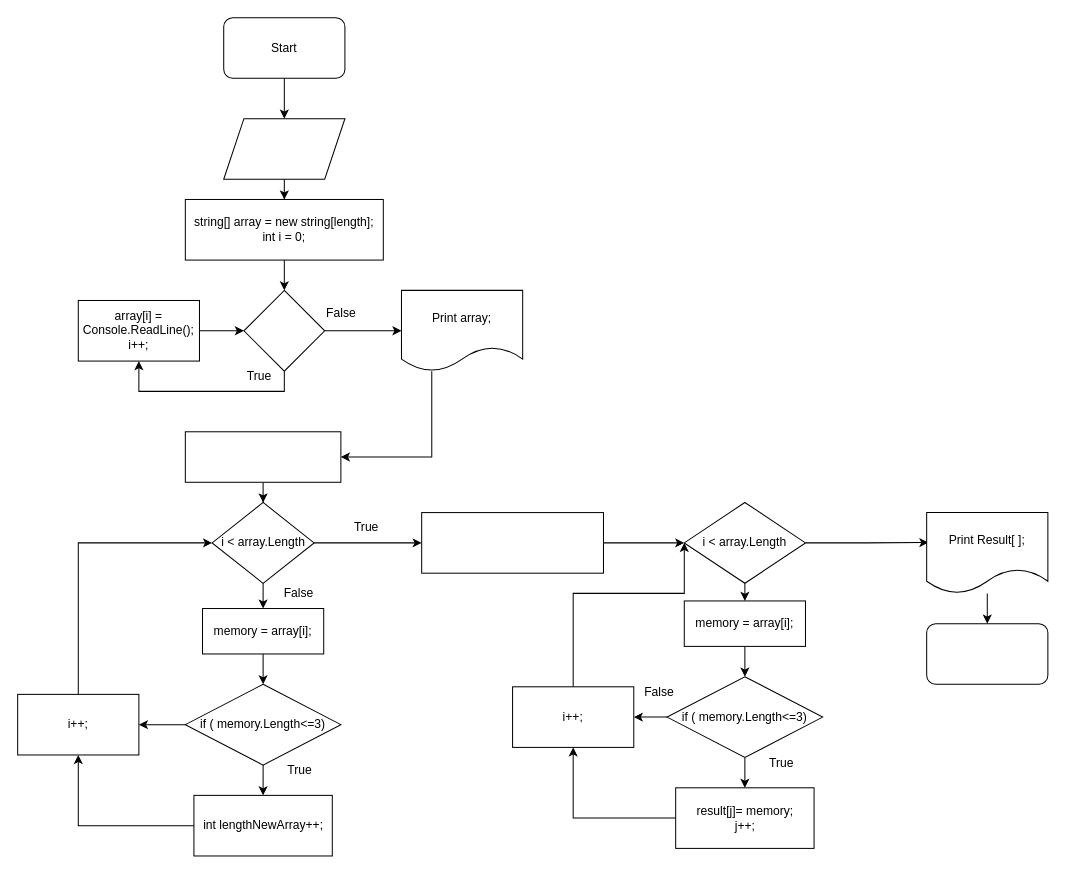
This 1066x874 diagram has some shape labels left out. Here are the shapes that lost their labels. From the top down, the box of each, then its label:
(223, 118, 345, 179): length = 4
(243, 289, 325, 371): i<length
(184, 431, 341, 482): int lengthNewArray =0; string memory = " " ; int i =0;
(421, 512, 603, 573): string[] result = new string[lengthNewArray] int j =0; int i =0;
(926, 623, 1048, 684): Finish
